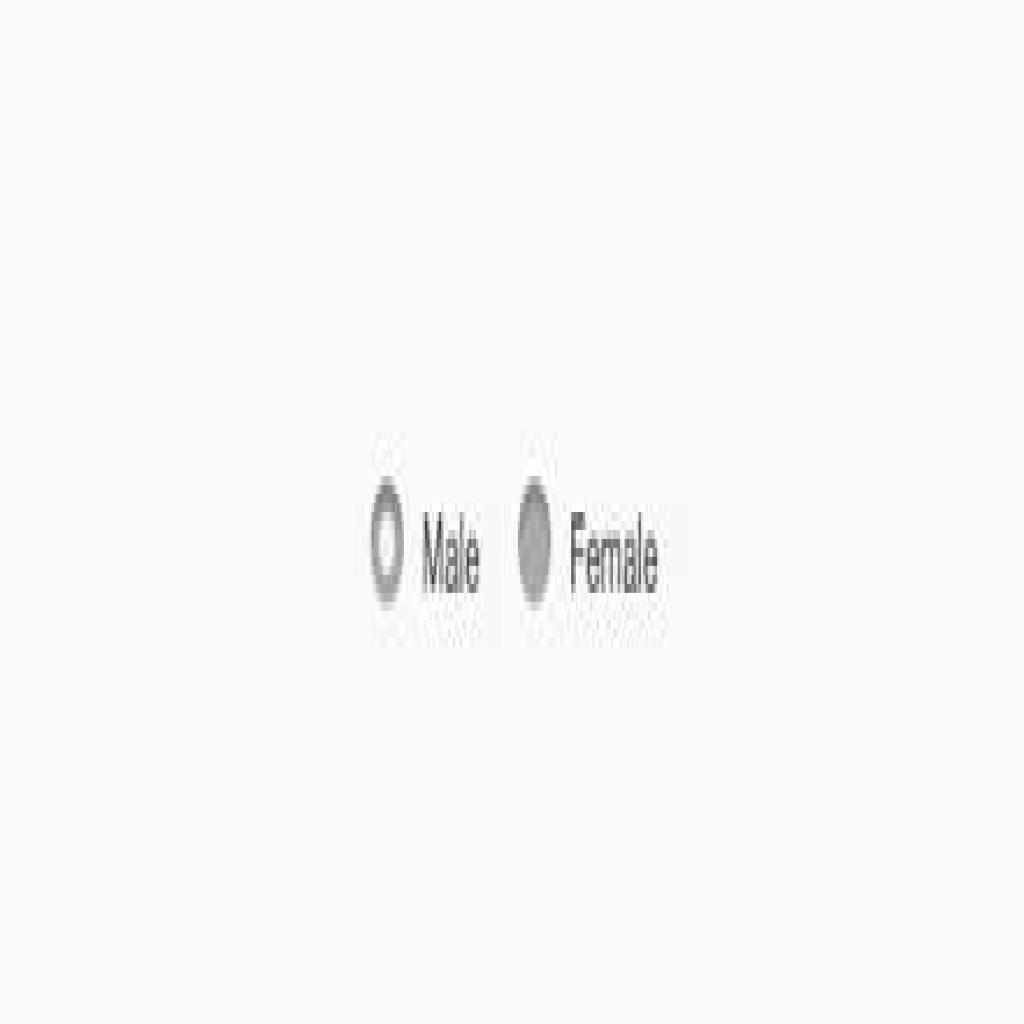radio: (365, 475, 411, 610), (515, 476, 558, 607)
